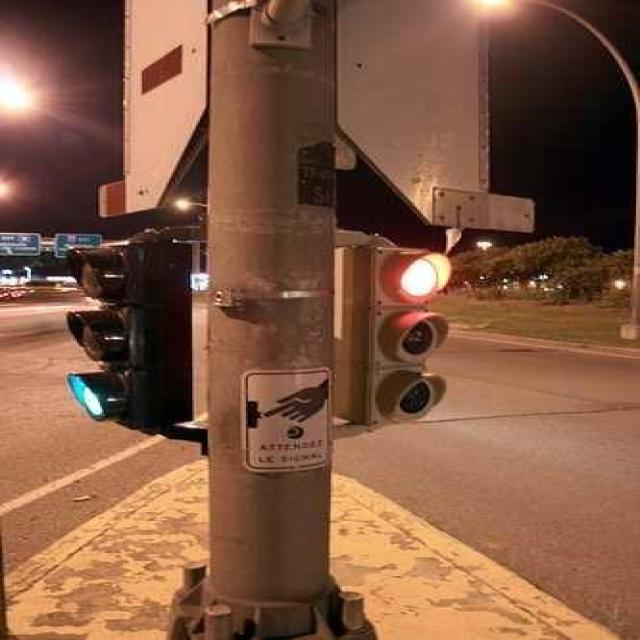Traffic Light -Green-: (54, 237, 201, 432)
Traffic Light -Red-: (354, 244, 463, 423)
